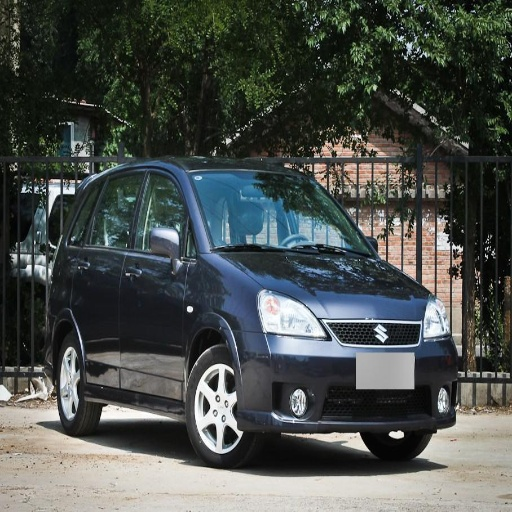front_bumper: (241, 318, 458, 430)
front_right_door: (122, 167, 190, 400)
front_right_light: (257, 289, 327, 338)
